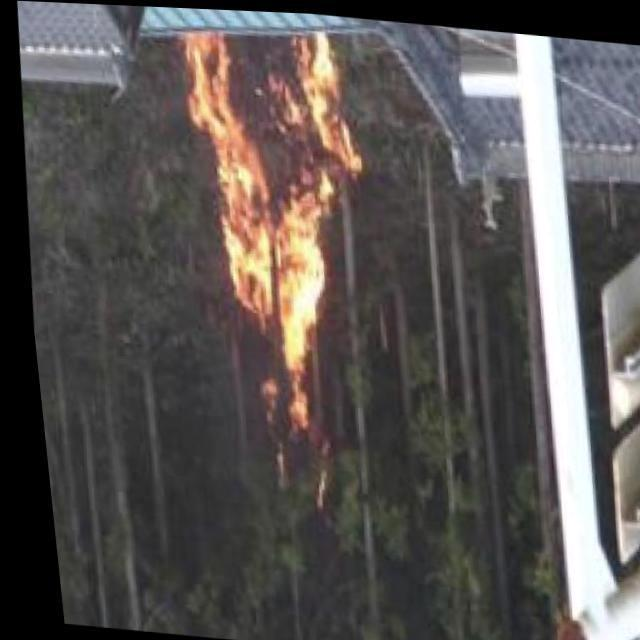fire: (162, 18, 378, 438)
